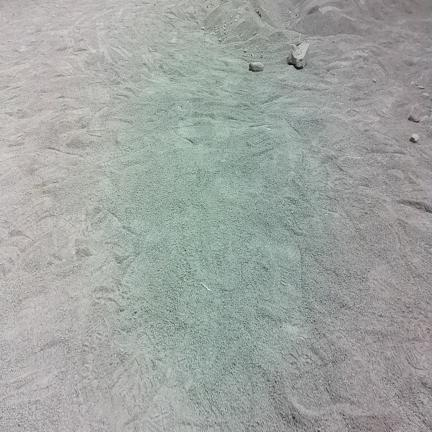Rock: (291, 42, 309, 68), (287, 44, 297, 64), (409, 105, 419, 122), (250, 62, 263, 71), (410, 134, 419, 143), (422, 93, 429, 97), (417, 85, 424, 89)
